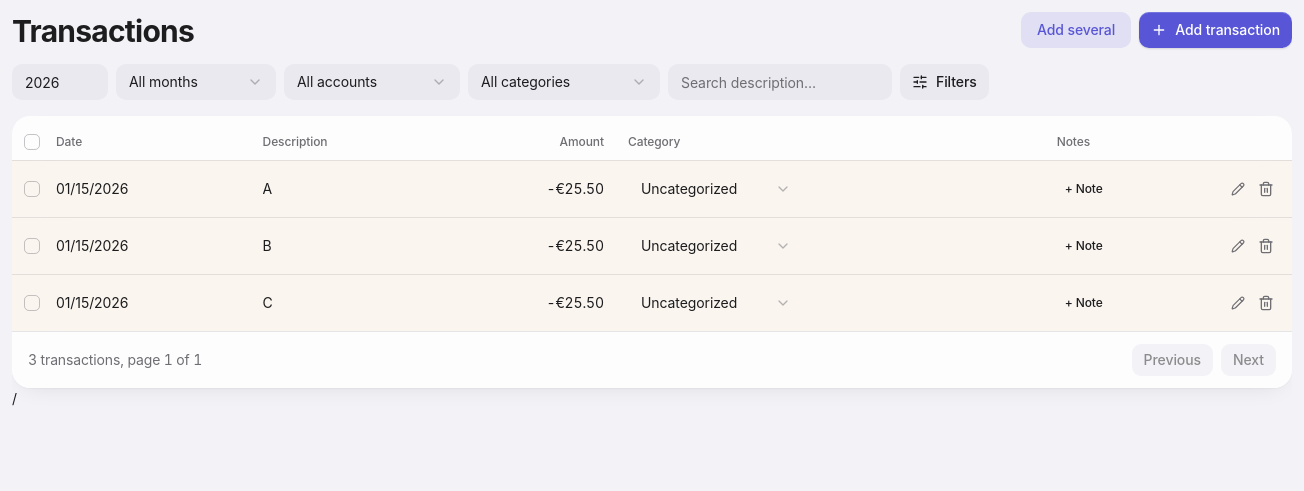
Transactions page › bulk-assigns a category to the selected transactions
Click the 2nd checkbox at (32, 188), box [24,180,40,196]
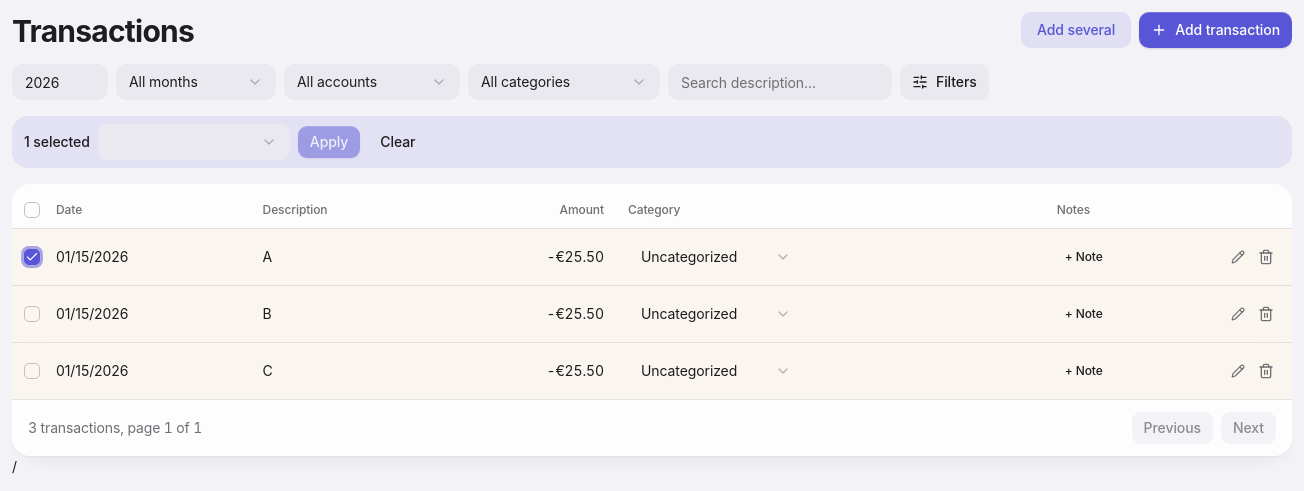
Click the 4th checkbox at (32, 370), box [24,362,40,378]
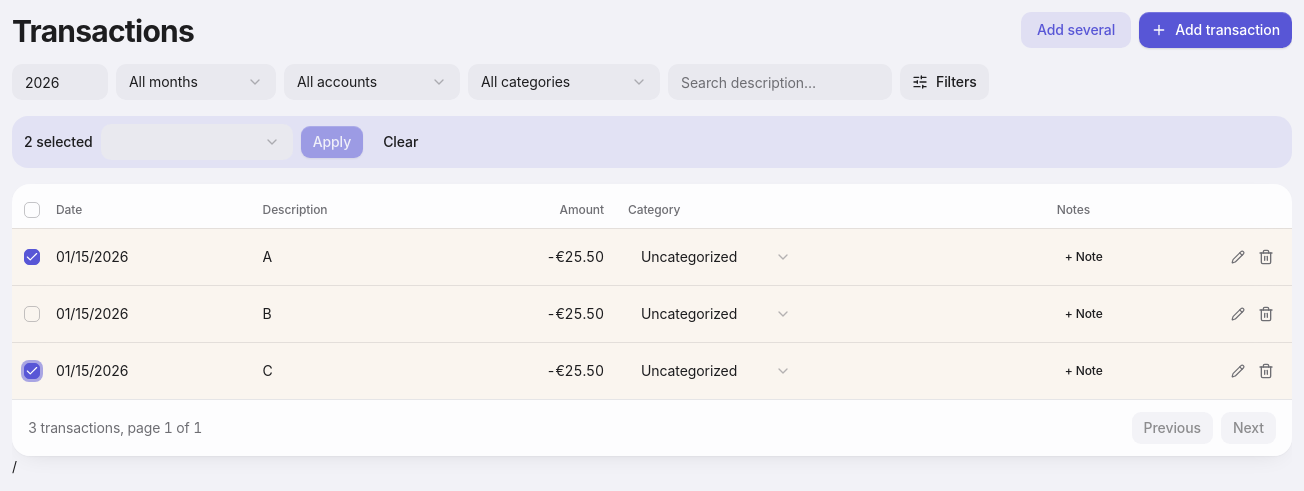
Result: the text "2 selected" is shown at [24,132,93,152]
Click the 4th dropdown at (197, 142), box [101,124,293,160]
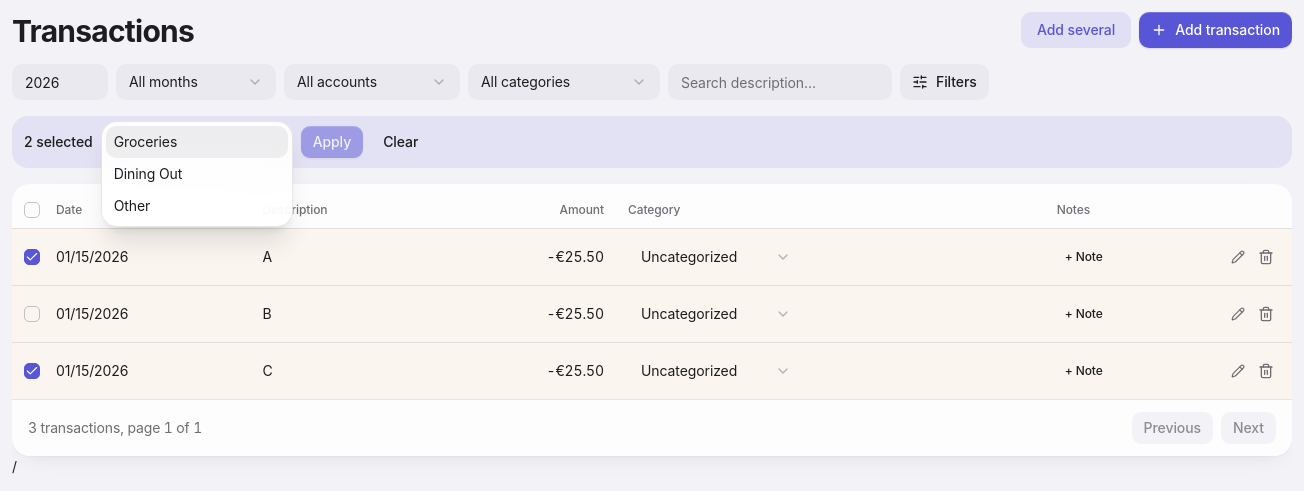
Click the option "Dining Out" at (148, 174), box [114,165,182,182]
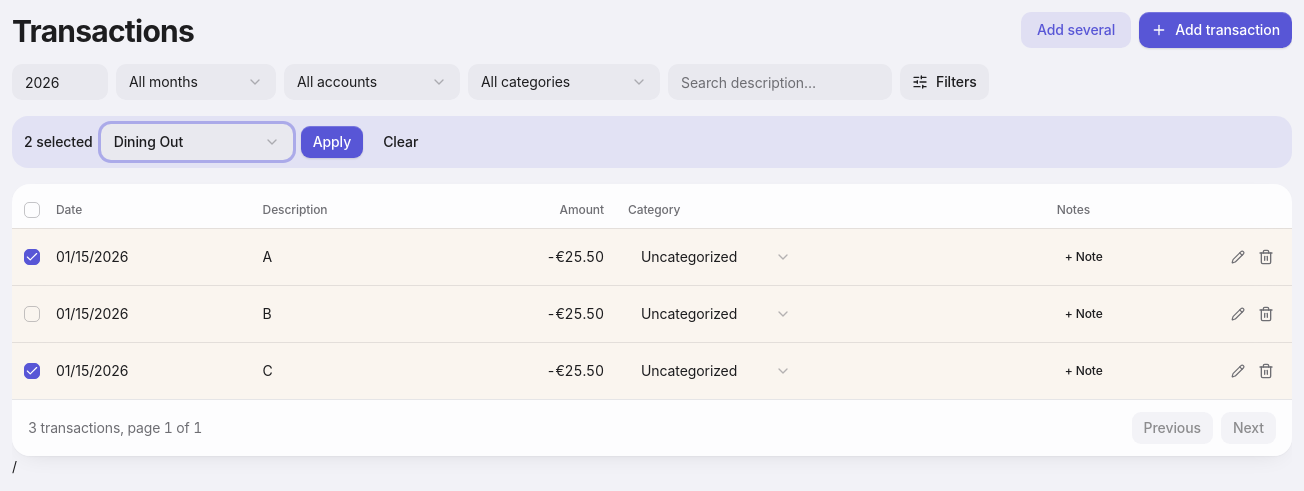
Click the button "Apply" at (332, 142), box [301,126,363,158]
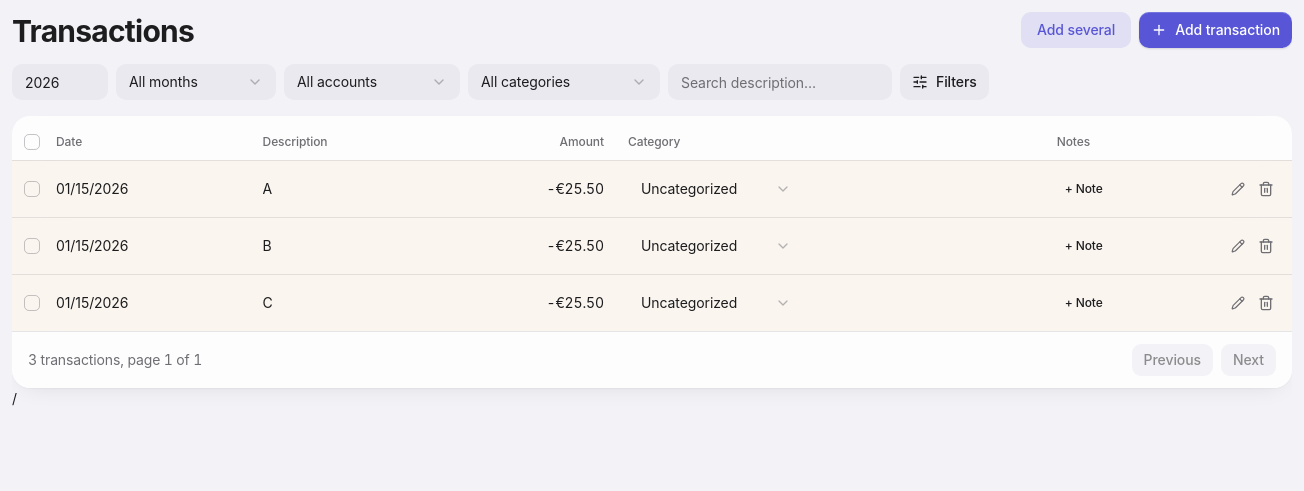
Result: the text "2 selected" is gone
